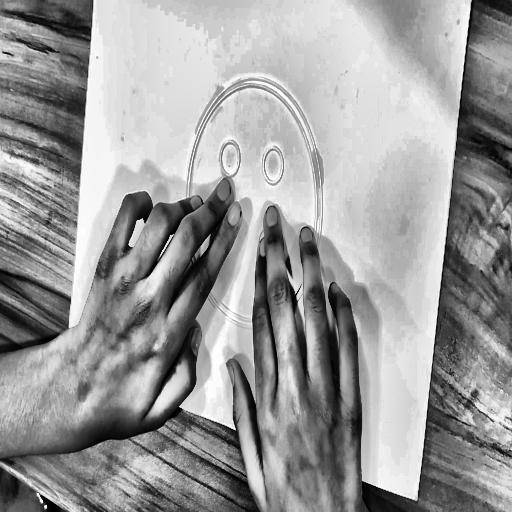bottom_left: (65, 342, 77, 363)
bottom_right: (413, 490, 421, 507)
button: (166, 51, 345, 365)
